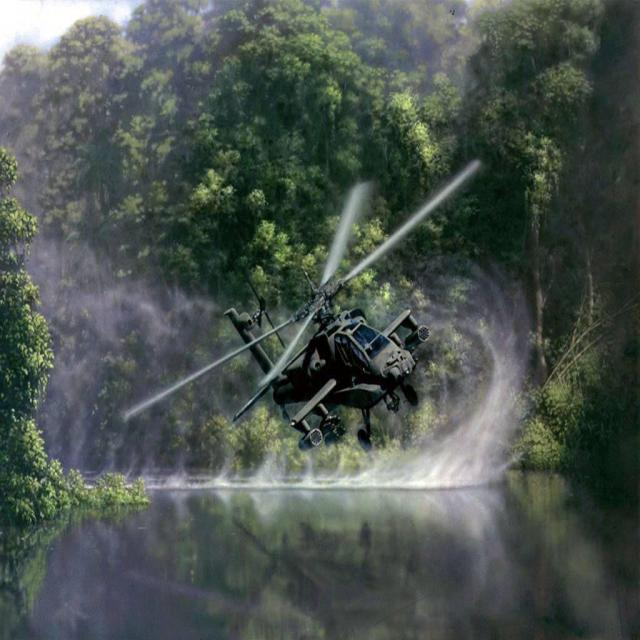MIL_HELO: (116, 156, 506, 458)
